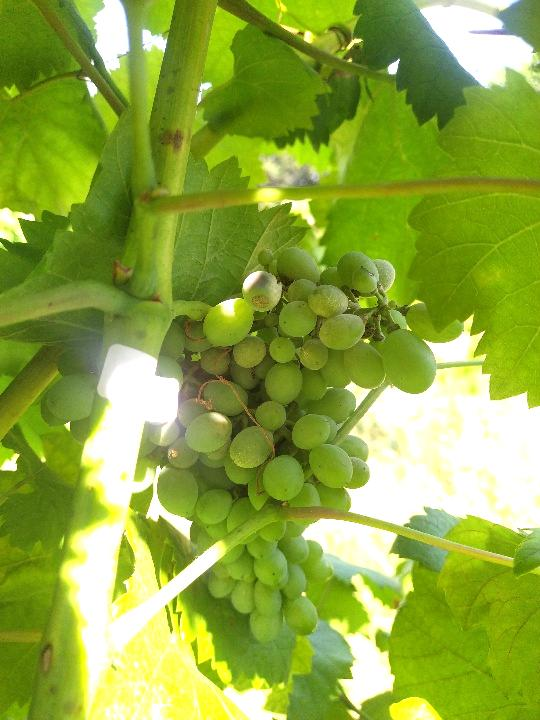grape: (38, 240, 469, 649)
